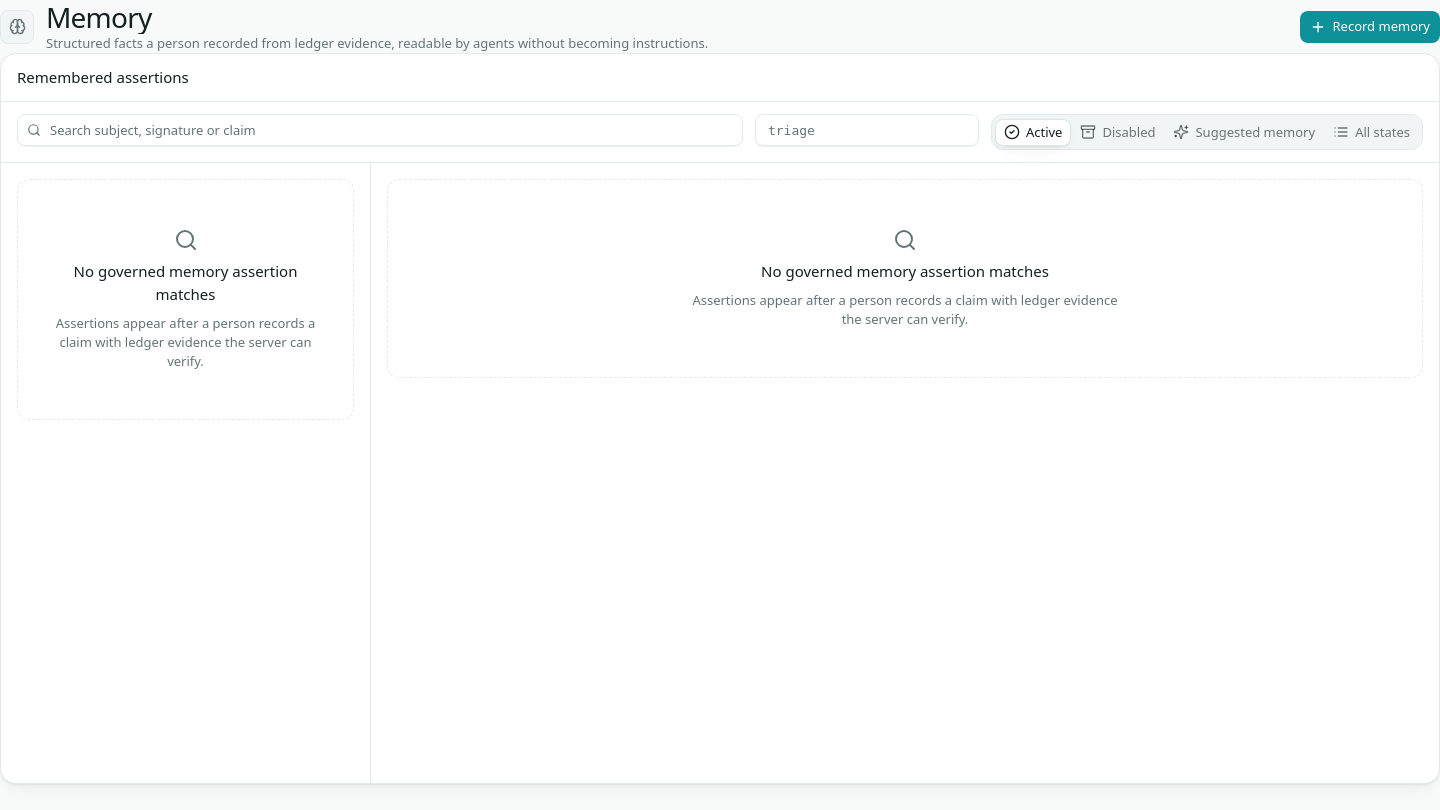
Scenario: governed memory page › explains when a manual search exceeds the term budget
Type "alertas do superset entregues no slack com erro not_in_channel hoje" into the search field named "Search memory". click: (380, 130)
box: [17,114,743,146]
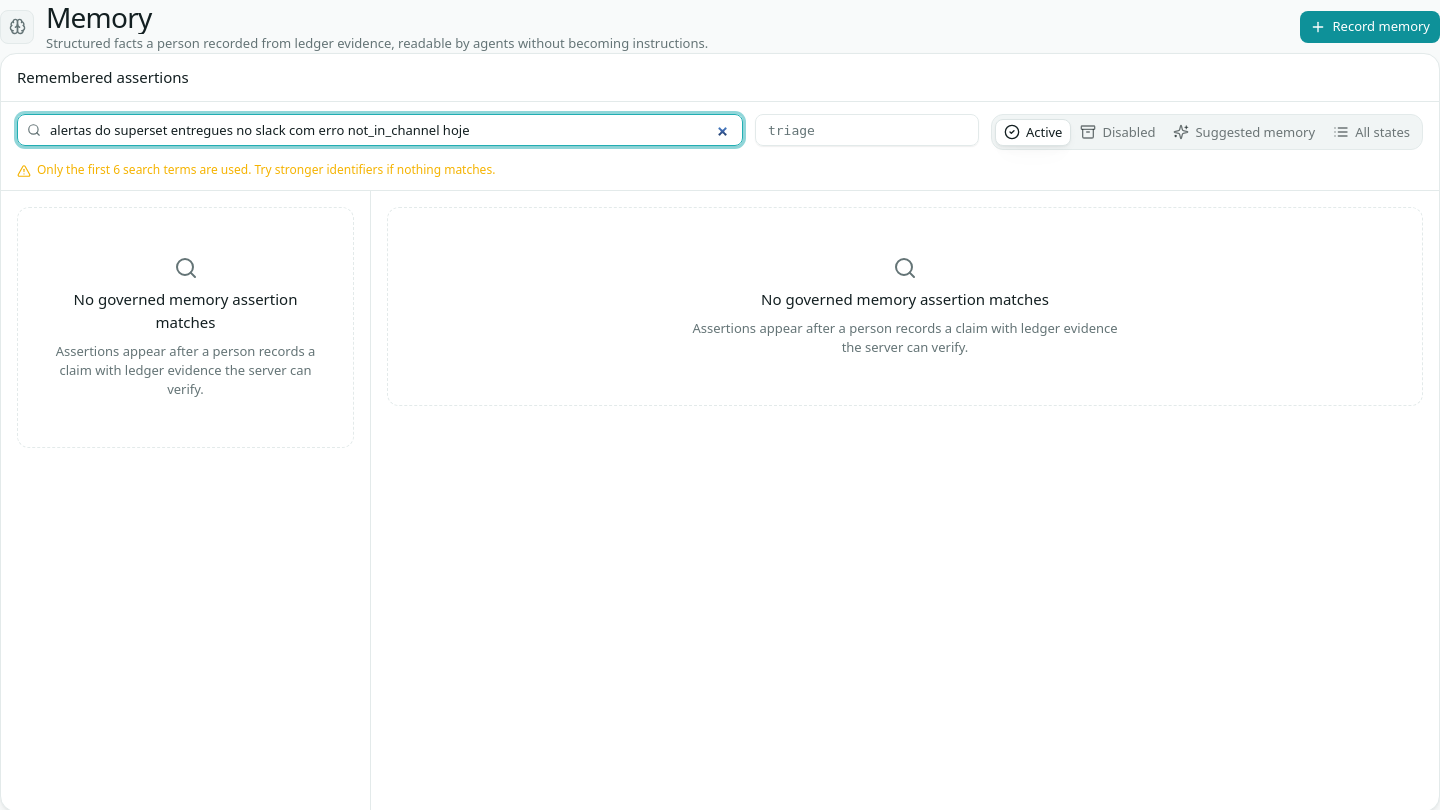
Result: the message shows "Only the first 6 search terms are used. Try stronger identifiers if nothing matches." at [37,161,495,178]
